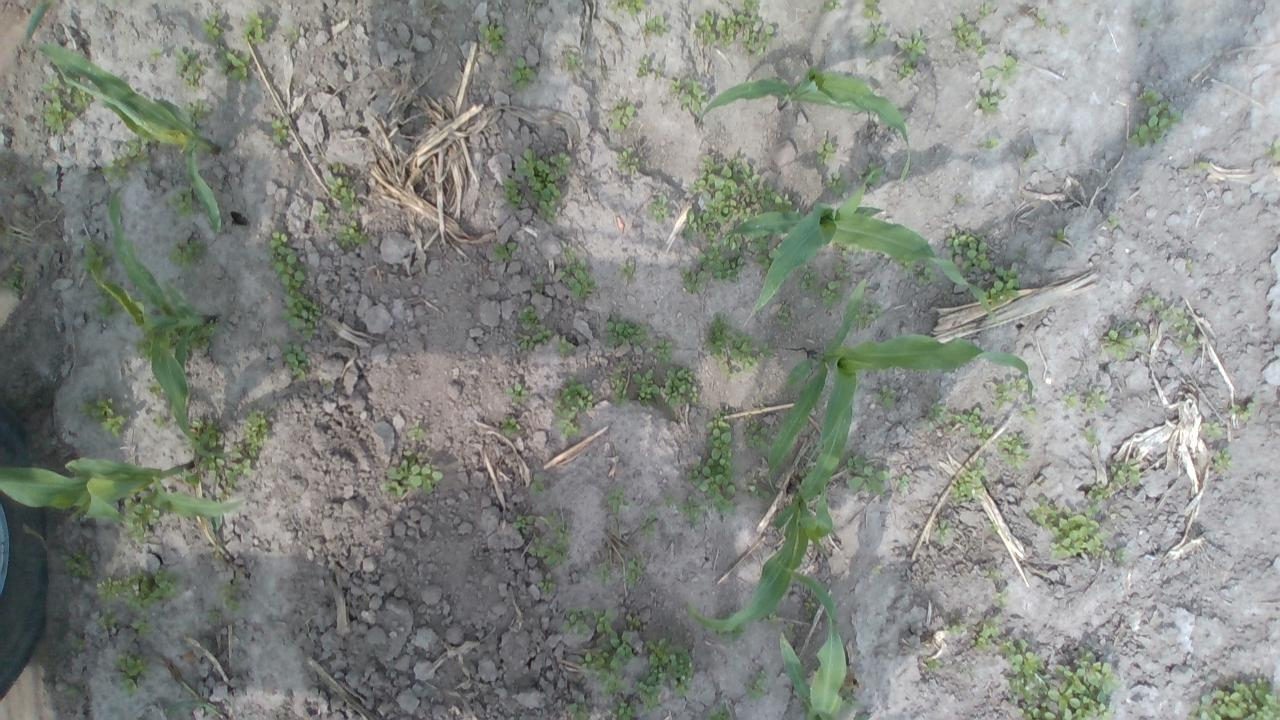Maize: (766, 275, 1030, 502), (734, 167, 1001, 334), (686, 387, 857, 634), (35, 39, 224, 237), (94, 189, 220, 455), (694, 66, 913, 182), (0, 455, 246, 527), (774, 571, 851, 720), (24, 0, 65, 42)
Weeds: (681, 153, 763, 240), (685, 411, 739, 518), (1046, 646, 1122, 720), (1026, 496, 1110, 561), (634, 637, 692, 710), (1188, 677, 1280, 720), (578, 629, 634, 694), (705, 316, 758, 381), (40, 74, 94, 136), (999, 636, 1046, 704), (516, 148, 572, 201), (184, 418, 227, 484), (382, 452, 443, 497), (717, 10, 773, 56), (1128, 101, 1182, 148), (267, 230, 305, 290), (124, 570, 178, 610), (281, 290, 322, 342), (696, 241, 744, 284), (945, 228, 991, 272), (530, 520, 574, 566), (950, 456, 991, 504), (844, 455, 890, 497), (946, 406, 994, 446), (1101, 319, 1146, 361), (552, 375, 594, 418), (121, 498, 159, 542), (116, 650, 150, 698), (558, 257, 596, 299), (950, 16, 986, 60), (604, 314, 651, 347), (241, 406, 270, 458), (174, 47, 208, 91), (662, 366, 698, 406), (983, 266, 1019, 305), (997, 432, 1032, 471), (92, 276, 121, 322), (218, 47, 254, 84), (969, 614, 1002, 654), (324, 175, 356, 214), (981, 54, 1020, 86), (223, 446, 252, 488), (991, 378, 1030, 409), (171, 691, 220, 715), (168, 240, 208, 268), (82, 238, 110, 278), (241, 9, 273, 44), (59, 548, 96, 578), (631, 369, 660, 406), (756, 183, 792, 212), (282, 342, 310, 378), (75, 393, 113, 419), (478, 22, 507, 56), (676, 497, 710, 526), (1160, 306, 1195, 334), (100, 155, 132, 185), (123, 134, 155, 164), (854, 296, 884, 328), (680, 79, 710, 111), (1, 262, 29, 296), (743, 413, 770, 448), (715, 613, 746, 643), (508, 57, 536, 90), (166, 186, 196, 216), (512, 326, 551, 349), (335, 221, 365, 250), (974, 89, 1006, 116), (1110, 458, 1142, 485), (900, 29, 926, 62), (604, 484, 630, 516), (220, 578, 244, 612), (608, 101, 634, 131), (561, 606, 591, 632), (694, 11, 717, 44), (608, 372, 630, 406), (1017, 701, 1056, 720), (636, 504, 658, 536), (185, 96, 212, 122), (682, 268, 708, 295), (189, 324, 218, 348), (202, 13, 226, 42), (646, 339, 674, 363), (922, 401, 945, 430), (100, 415, 130, 437), (646, 194, 671, 220), (874, 385, 900, 410), (858, 162, 884, 187), (818, 281, 842, 308), (616, 146, 640, 173), (1230, 398, 1257, 422), (746, 670, 768, 699), (501, 178, 522, 208), (1212, 446, 1236, 472), (568, 694, 592, 720), (864, 25, 887, 52), (798, 264, 818, 294), (592, 562, 616, 587), (96, 577, 122, 600), (625, 557, 644, 588), (816, 138, 836, 167), (610, 0, 646, 16), (536, 200, 560, 224), (645, 14, 670, 37), (746, 478, 772, 500), (754, 248, 780, 270), (1086, 387, 1106, 415), (744, 228, 768, 251), (825, 171, 848, 194), (839, 686, 860, 711), (132, 336, 152, 362), (592, 608, 612, 634), (721, 232, 743, 255), (613, 697, 635, 720), (270, 118, 291, 142), (1086, 482, 1114, 500), (490, 240, 514, 261), (1080, 426, 1102, 448), (128, 614, 152, 634), (512, 514, 536, 534), (506, 382, 530, 402), (312, 200, 329, 228), (832, 260, 851, 285), (555, 419, 580, 438), (536, 572, 556, 595), (942, 618, 967, 636), (705, 703, 731, 720), (777, 300, 794, 326), (564, 52, 584, 74), (1060, 389, 1080, 411), (918, 261, 936, 285), (529, 473, 547, 497), (1018, 402, 1038, 423), (1175, 333, 1195, 354), (518, 305, 537, 327), (97, 608, 117, 628), (936, 515, 952, 540), (1200, 420, 1222, 438), (1264, 138, 1280, 162), (833, 240, 851, 260), (1142, 292, 1162, 310), (1135, 88, 1159, 103), (862, 0, 880, 20), (502, 416, 520, 436), (165, 326, 181, 348), (1021, 146, 1037, 168), (559, 240, 577, 259), (556, 335, 574, 354), (899, 60, 916, 80), (66, 681, 86, 698), (624, 613, 644, 630), (406, 422, 424, 440), (636, 56, 650, 78), (1112, 547, 1128, 566), (992, 588, 1008, 607), (284, 25, 302, 41), (30, 170, 46, 188), (619, 260, 635, 278), (543, 508, 559, 526), (804, 599, 818, 619), (148, 46, 164, 63), (978, 2, 994, 18), (763, 610, 780, 625), (925, 658, 943, 672), (820, 0, 841, 12), (530, 278, 544, 296), (759, 341, 774, 357), (1052, 228, 1066, 244), (980, 568, 1000, 579), (738, 0, 760, 10), (984, 136, 999, 150), (653, 62, 664, 81), (1106, 212, 1119, 228), (1055, 22, 1071, 35), (1036, 10, 1047, 28), (899, 474, 910, 492), (149, 378, 162, 393), (900, 260, 914, 273), (1136, 16, 1149, 30), (987, 520, 999, 534), (668, 78, 682, 90), (154, 413, 166, 426), (871, 564, 883, 576), (72, 638, 84, 648), (854, 712, 868, 720), (1197, 162, 1211, 170), (663, 494, 673, 505), (208, 610, 218, 620), (331, 162, 343, 170), (322, 378, 332, 387), (954, 194, 964, 203), (1186, 257, 1192, 271), (786, 624, 794, 634), (619, 360, 628, 368)
